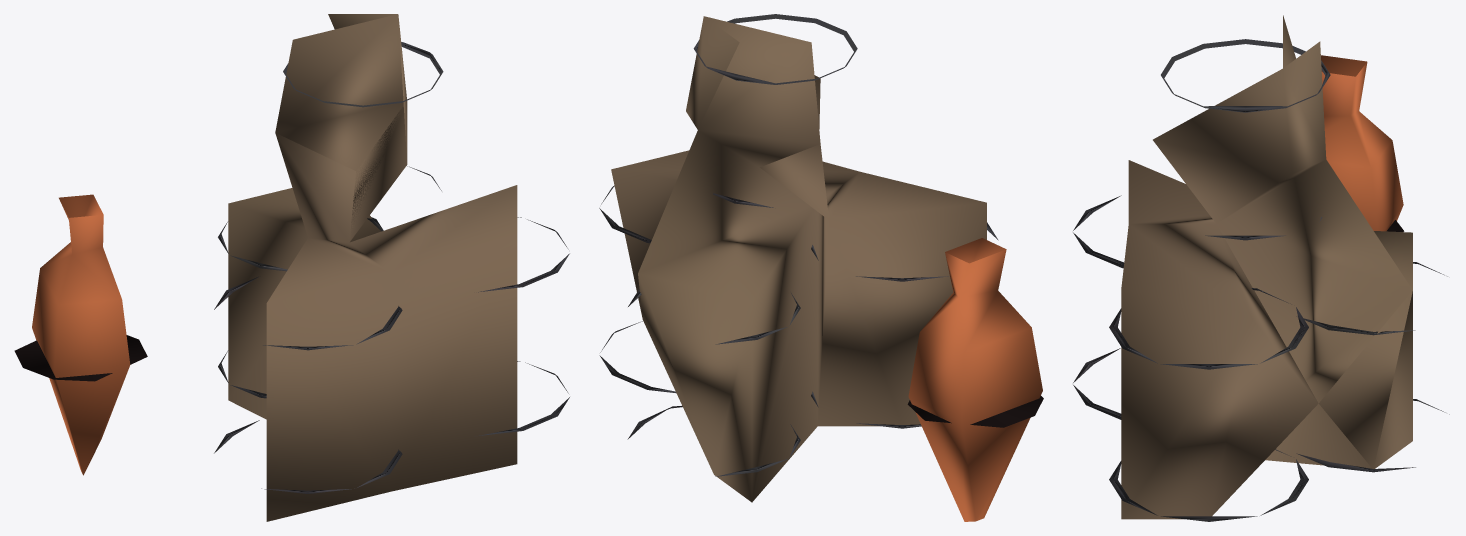
The model's file is decor_barrels_t1.glb.
3 renders of one model, left to right at view 1: azimuth 30°, elevation 25°; view 2: azimuth 150°, elevation 25°; view 3: azimuth 270°, elevation 25°, orthographic. The views are drawn at different scales.
Visible parts, largest first — view 1: wood, terracotta, iron, black_glaze; view 2: wood, terracotta, iron, black_glaze; view 3: wood, terracotta, iron.
Part boxes in pixels (<box>): wood: <box>228,14,517,521</box>; terracotta: <box>32,194,130,475</box>; iron: <box>214,42,569,493</box>; black_glaze: <box>14,335,147,381</box>; wood: <box>611,16,986,502</box>; terracotta: <box>908,238,1042,521</box>; iron: <box>599,14,998,476</box>; black_glaze: <box>907,396,1043,427</box>; wood: <box>1121,15,1412,519</box>; terracotta: <box>1321,55,1403,231</box>; iron: <box>1073,39,1449,521</box>.
Size of the model in its own units: 1.59 by 1.3 by 1.04.
